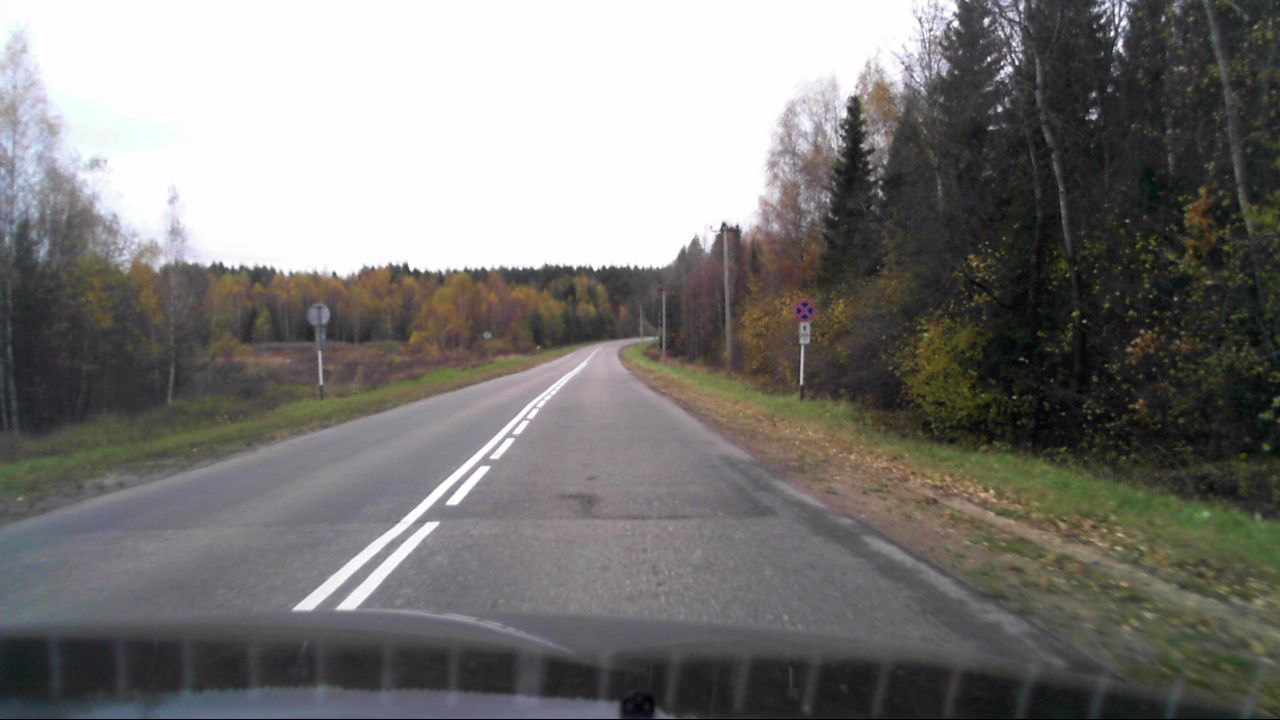No Parking: (793, 299, 815, 320)
